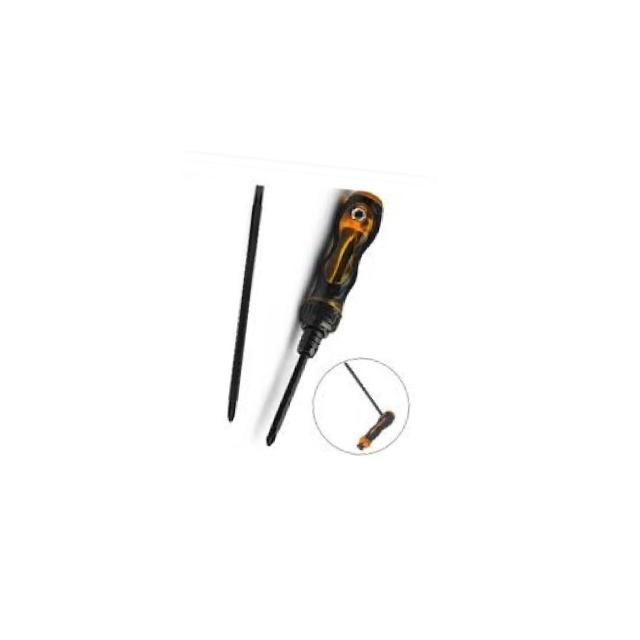screwdriver: (261, 182, 388, 460)
